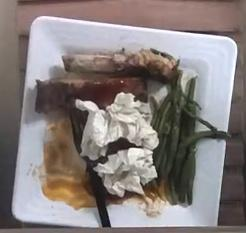green_beans: (151, 70, 217, 205)
ribs: (35, 73, 147, 114)
